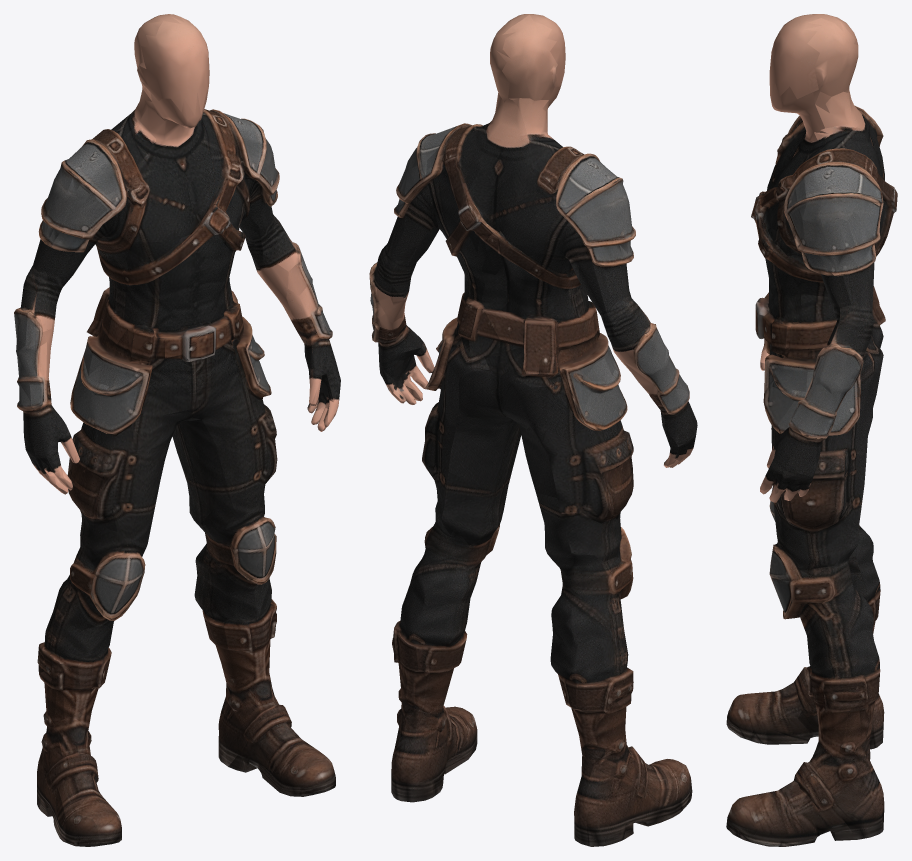
File: Corpo_Masculino_Baixo.glb
3 renders of one model, left to right at view 1: azimuth 30°, elevation 25°; view 2: azimuth 150°, elevation 25°; view 3: azimuth 270°, elevation 25°, orthographic.
Parts seen in each view (by area): view 1: Mesh_0; view 2: Mesh_0; view 3: Mesh_0.
Part boxes in pixels (x1,y1,x2,y2): Mesh_0: (14,14,340,846); Mesh_0: (369,14,697,846); Mesh_0: (726,14,897,846).
Size of the model in its own units: 0.7917 by 1.9 by 0.3834.
1 material, 1 textured.
